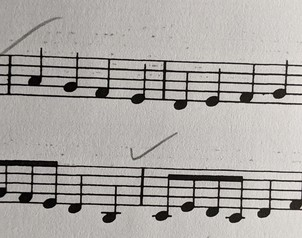A: (25, 46, 47, 100)
D: (254, 172, 277, 223), (65, 164, 87, 217), (171, 61, 193, 112)
E: (202, 59, 223, 111), (127, 58, 149, 106)
F: (92, 55, 113, 103), (237, 60, 257, 110)
G: (61, 49, 82, 101), (269, 59, 290, 108)
